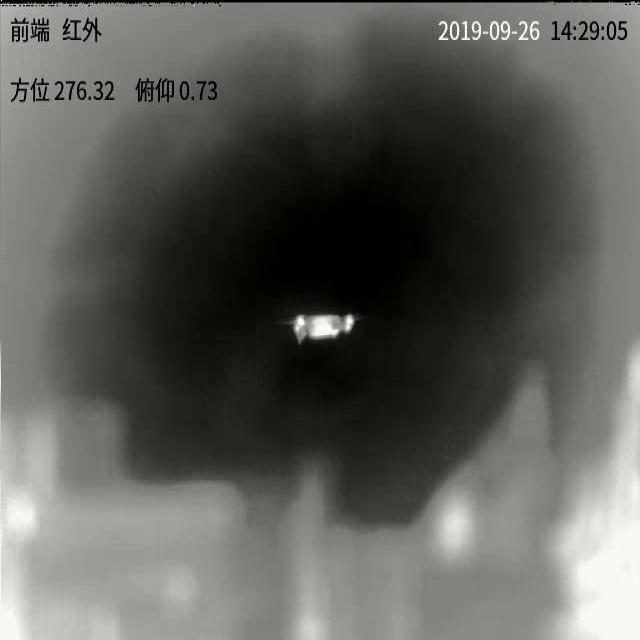drone: (281, 313, 356, 344)
